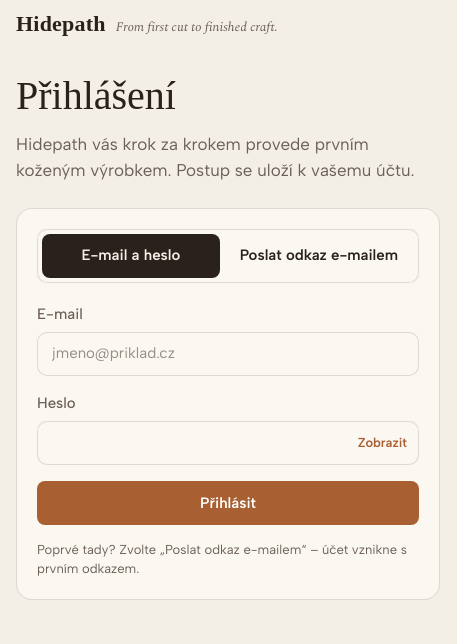
Test: LoginPage – odkaz e-mailem, krok s kódem vypnutý (výchozí) › limit e-mailů neradí kód, který v e-mailu není
Click the button "Poslat odkaz e-mailem". click: (319, 256)
box: [224, 234, 414, 278]
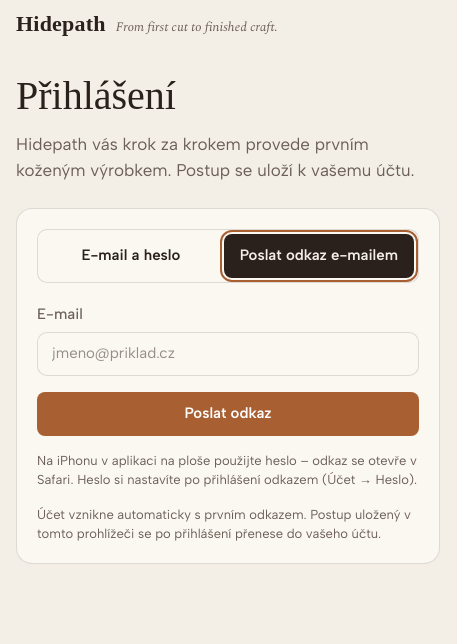
Type "ondra@example.com" into the field labelled "E-mail". click: (228, 354)
box: [37, 332, 419, 376]
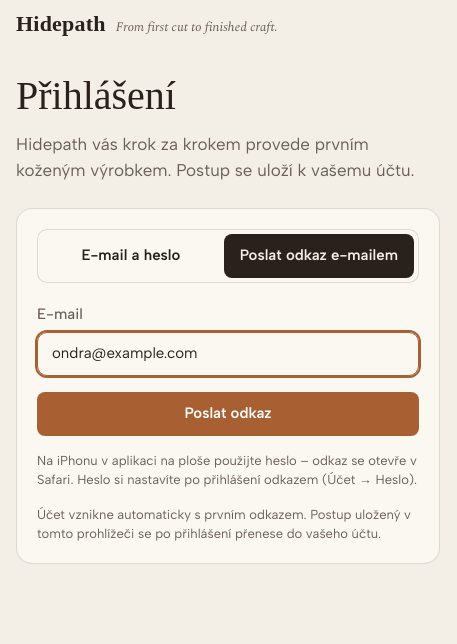
Click the button "Poslat odkaz". click: (228, 414)
box: [37, 392, 419, 436]
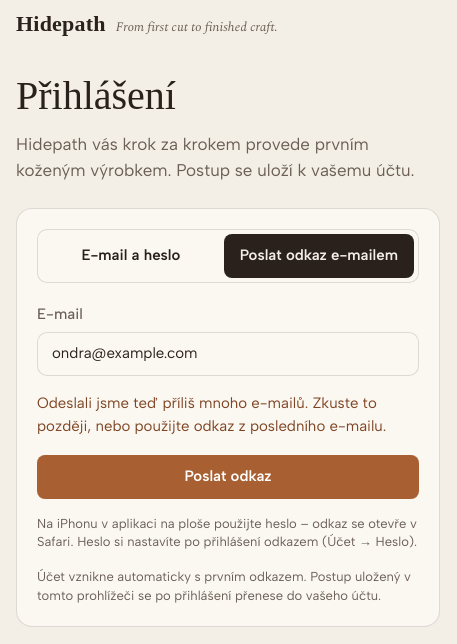
Expected: the message shows "příliš mnoho e-mailů", [37, 394, 386, 435]
